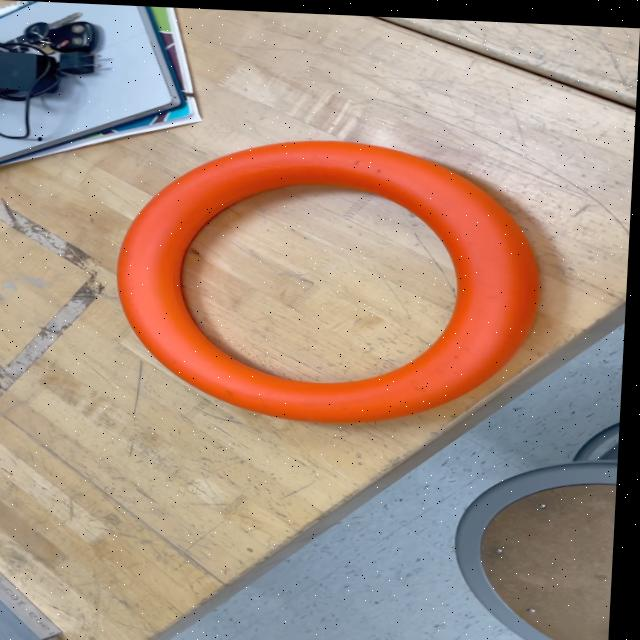note: (115, 128, 551, 429)
